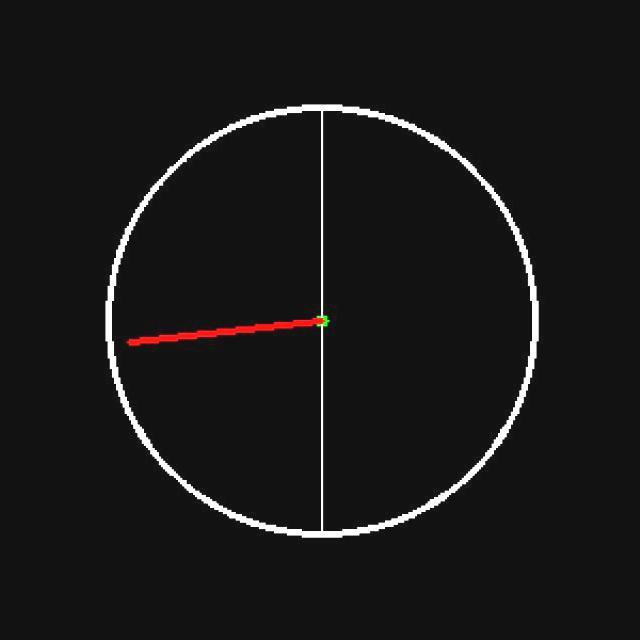Needle_Tip: (114, 322, 161, 364)
Needle_base: (298, 284, 360, 357)
